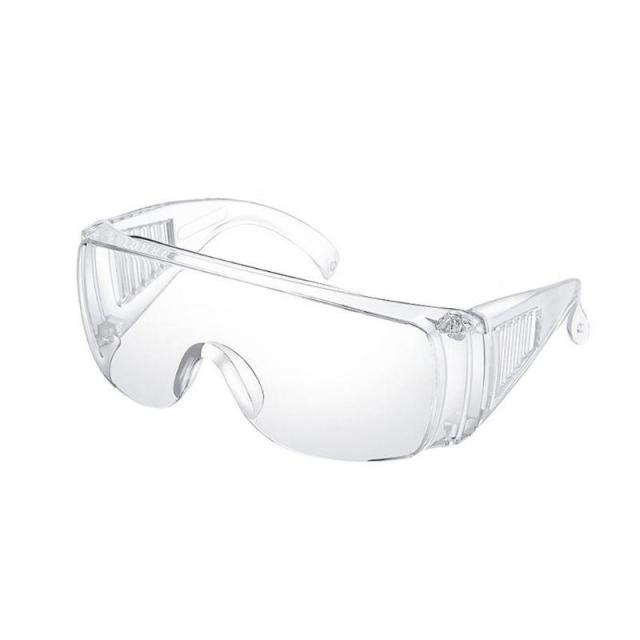Protective Glasses: (74, 194, 602, 467)
